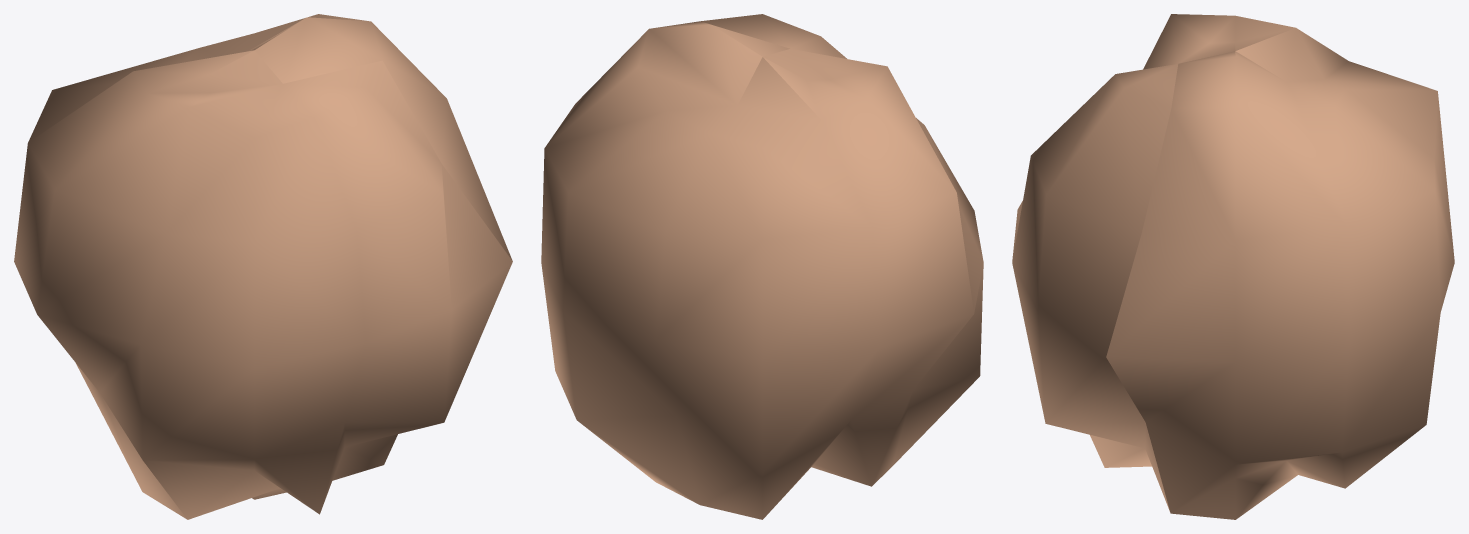
Rendered from rock_001.fbx.
3 renders of one model, left to right at view 1: azimuth 30°, elevation 25°; view 2: azimuth 150°, elevation 25°; view 3: azimuth 270°, elevation 25°, orthographic. The views are drawn at different scales.
Parts seen in each view (by area): view 1: Rock; view 2: Rock; view 3: Rock.
Boxes of the visible parts, left/top/right/bottom form: Rock: left=14, top=14, right=512, bottom=519; Rock: left=541, top=14, right=983, bottom=519; Rock: left=1012, top=14, right=1454, bottom=519.
Bounding box in the file's own units: 3.05 × 3.25 × 2.77.
